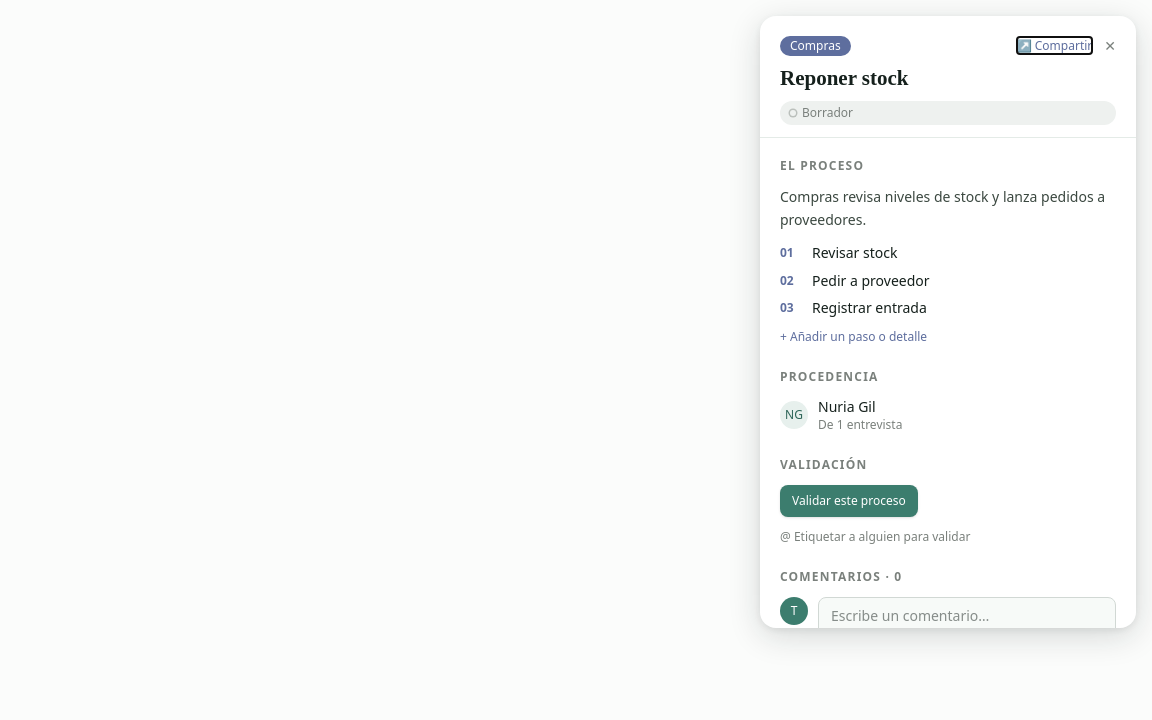
Test: NodeDetailPanel — draft node n4 › reveals step input after clicking add step link
Click the button "+ Añadir un paso o detalle": (854, 337) [780,329,927,345]
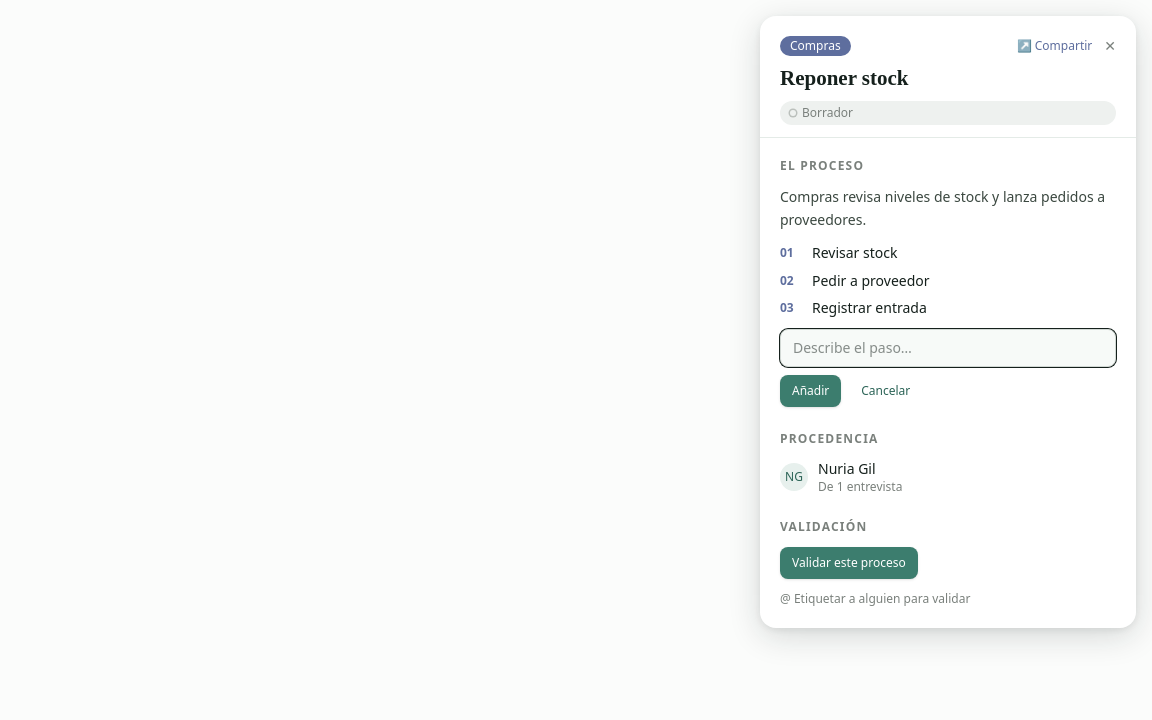
Now the field with placeholder "Describe el paso…" is shown, box [780,329,1116,367]
